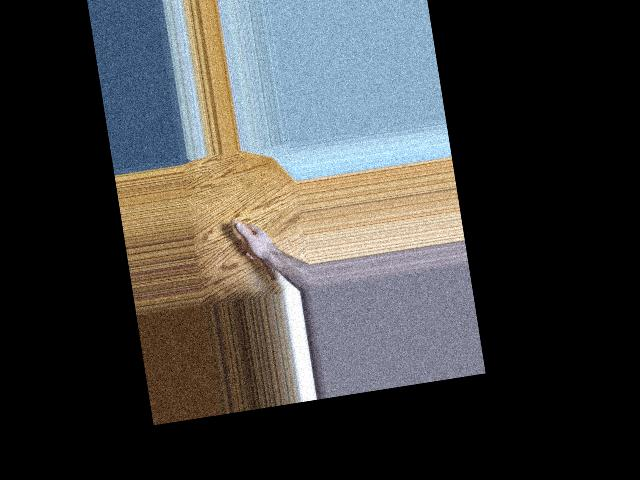sweet_potato: (228, 211, 281, 297)
